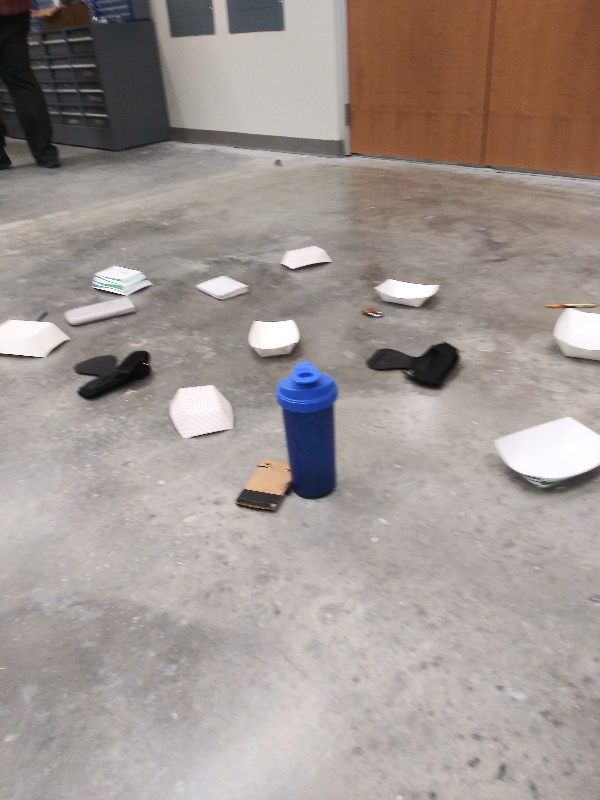plate: (484, 413, 600, 500), (162, 383, 239, 444), (548, 300, 600, 369), (1, 316, 72, 364), (371, 274, 445, 312), (243, 316, 304, 362), (85, 262, 161, 297), (275, 242, 335, 271)
